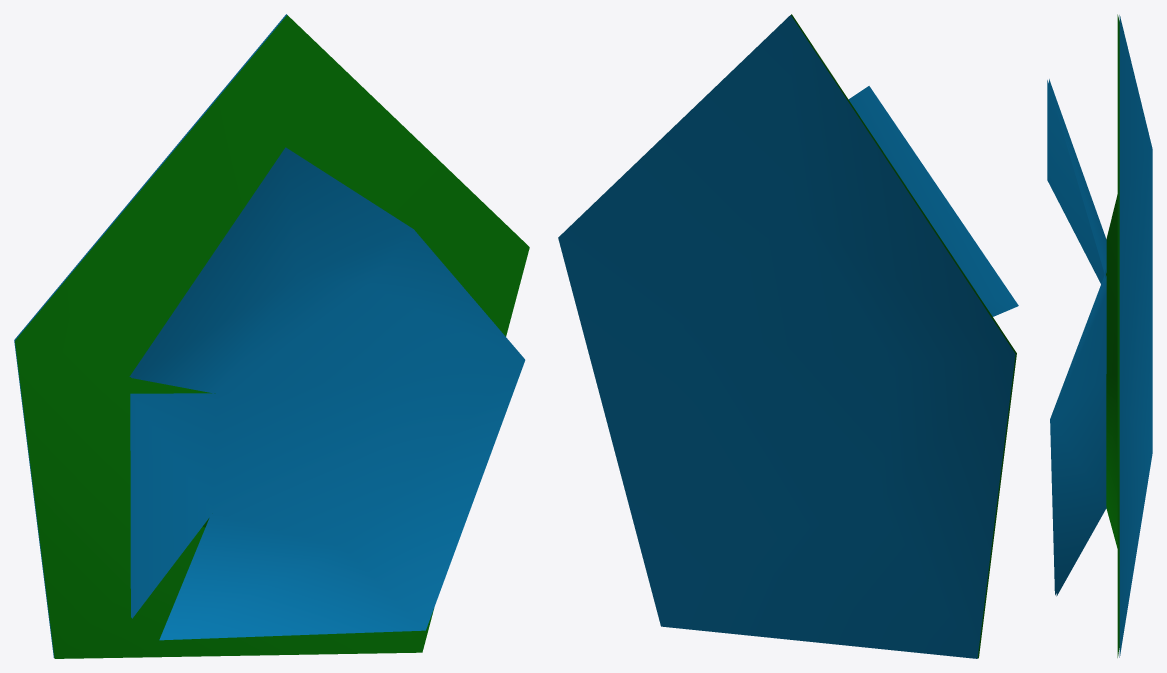
Rendered from DBK_Drywall_Prop_Small_C.fbx.
3 renders of one model, left to right at view 1: azimuth 30°, elevation 25°; view 2: azimuth 150°, elevation 25°; view 3: azimuth 270°, elevation 25°, orthographic. The views are drawn at different scales.
Visible parts, largest first — view 1: DBK_Drywall_Prop_Small_C; view 2: DBK_Drywall_Prop_Small_C; view 3: DBK_Drywall_Prop_Small_C.
Part boxes in pixels (x1,y1,x2,y2): DBK_Drywall_Prop_Small_C: (14, 14, 529, 658); DBK_Drywall_Prop_Small_C: (558, 14, 1018, 658); DBK_Drywall_Prop_Small_C: (1047, 14, 1152, 657).
Size of what is drawn, in the model's own units: 80.95 by 105 by 17.01.
